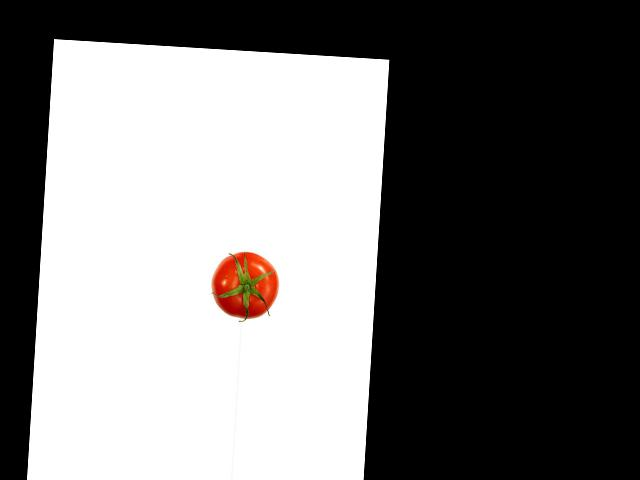tomato: (209, 249, 280, 320)
